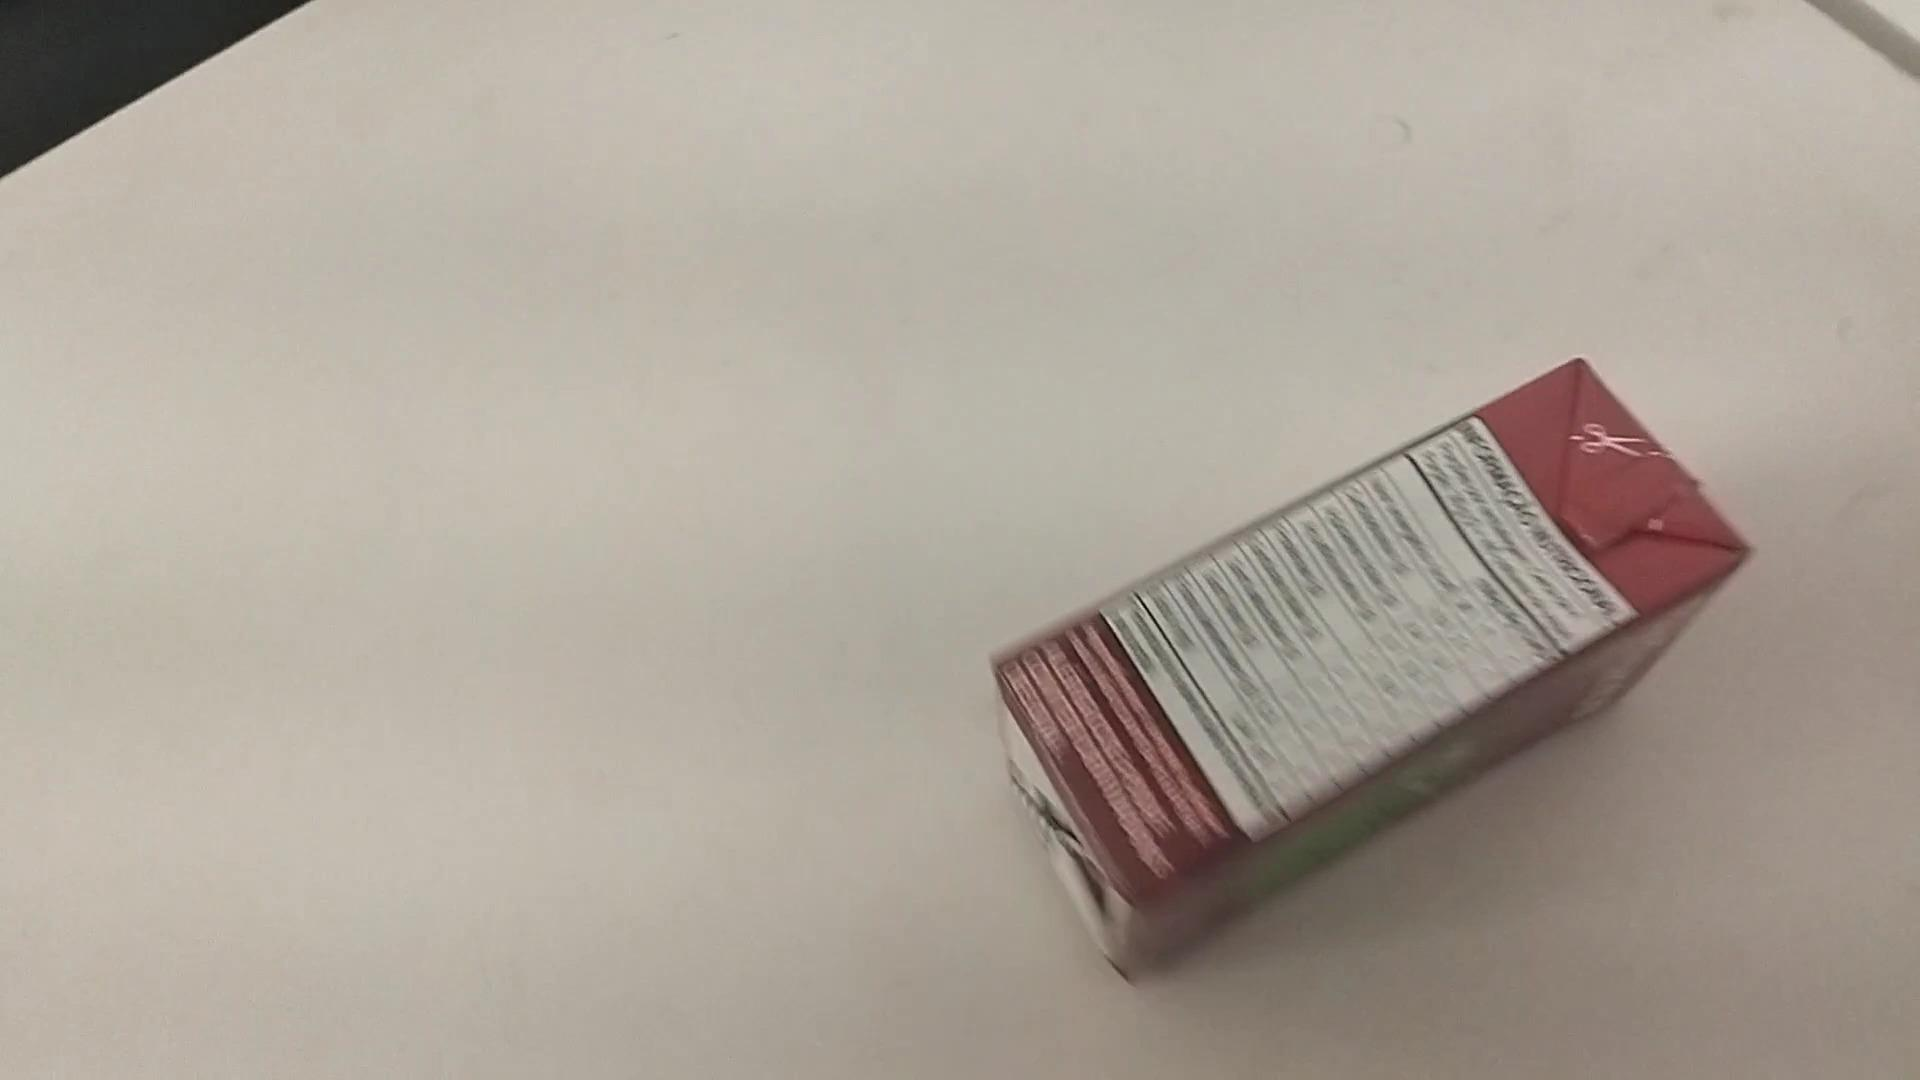tomate: (1000, 360, 1760, 980)
